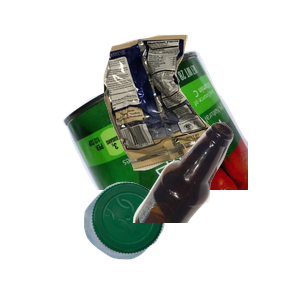glass: (130, 120, 300, 300)
metal: (60, 48, 300, 228)
plastic: (81, 179, 239, 300)
trash: (101, 32, 300, 195)
